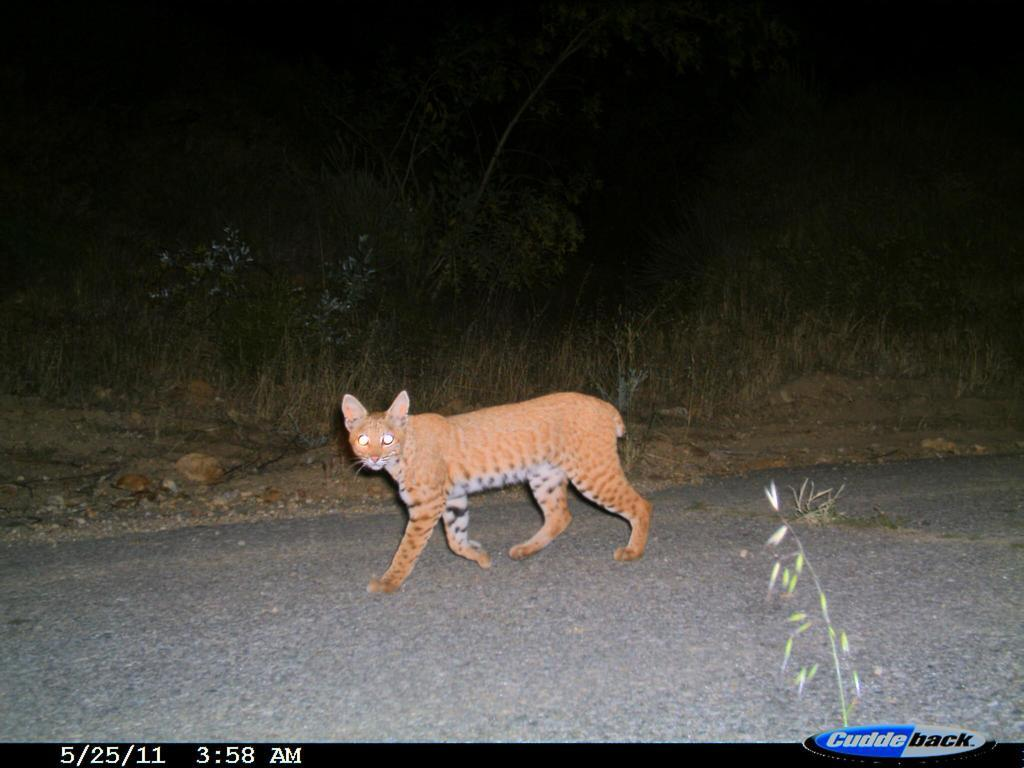bobcat: (336, 386, 660, 605)
